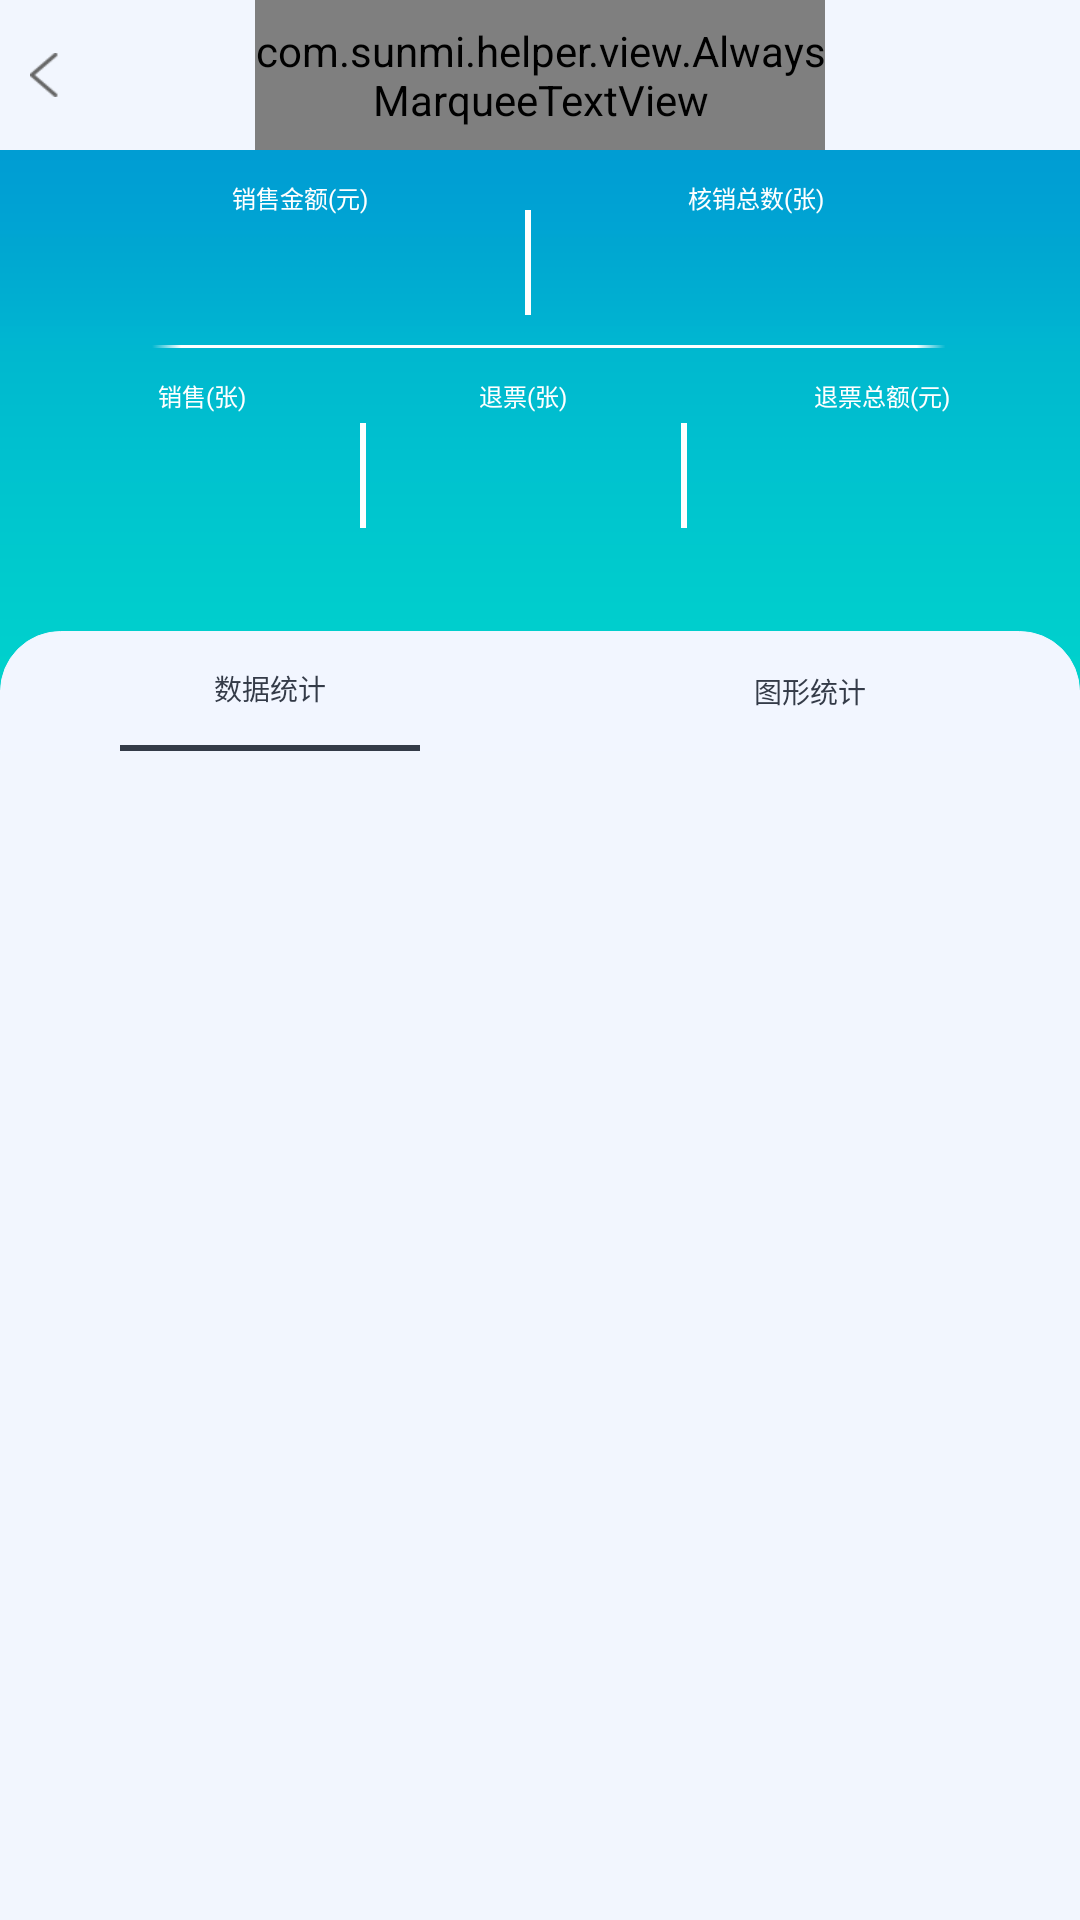

Where icons sit on this 1080w x 1920h app screen, as bbox=(x1, y1, x2, y2):
prosale back: bbox=(30, 53, 58, 97)
